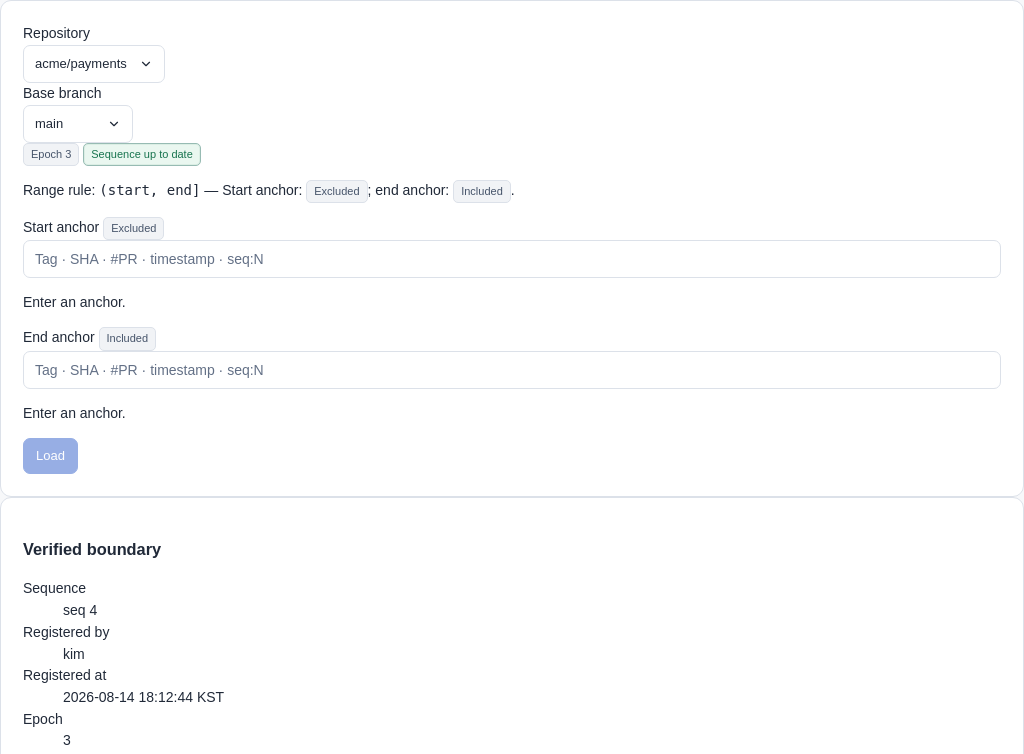
Test case: 앵커 정규화 표시 (QA-W004-04·05·06) › 미머지 PR은 `anchor_not_merged` 사유가 보인다 (QA-W004-06)
Type "#900" into the field with test id "anchor-from-input" at x=512, y=259, box x1=35 y1=241 x2=989 y2=277
Then press Enter
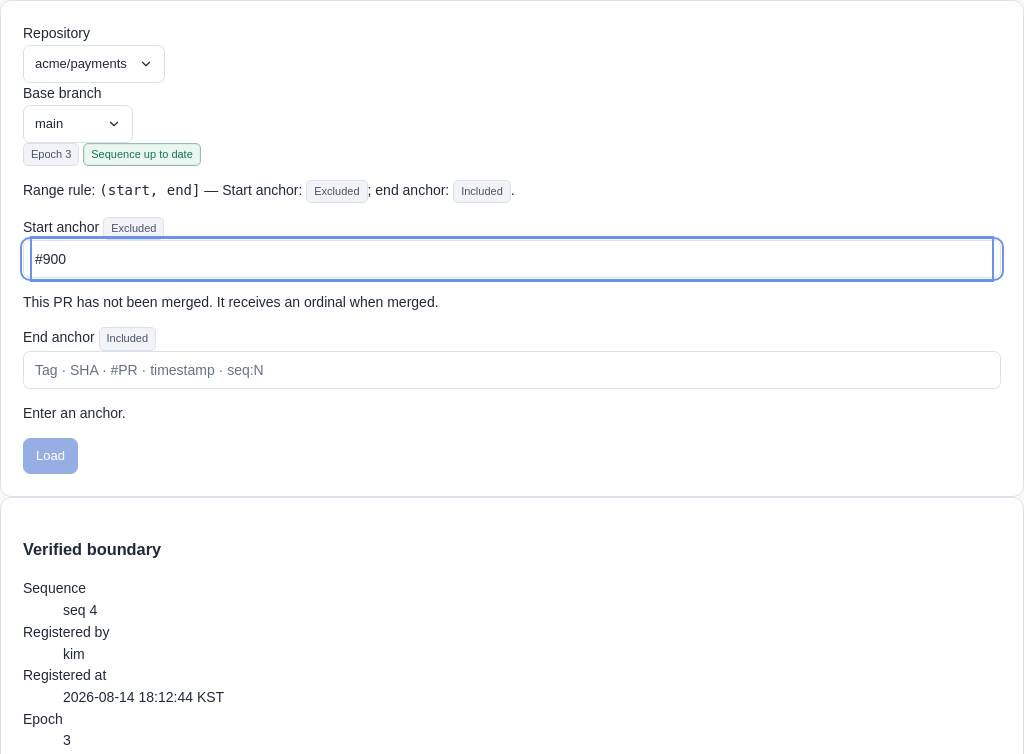
Result: the message with test id "anchor-from-error" shows "has not been merged" at x1=23 y1=294 x2=439 y2=310
